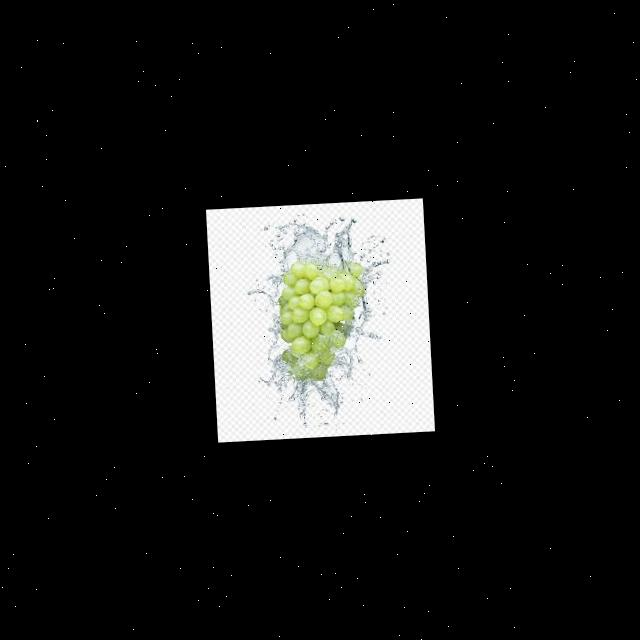grape: (274, 256, 370, 382)
